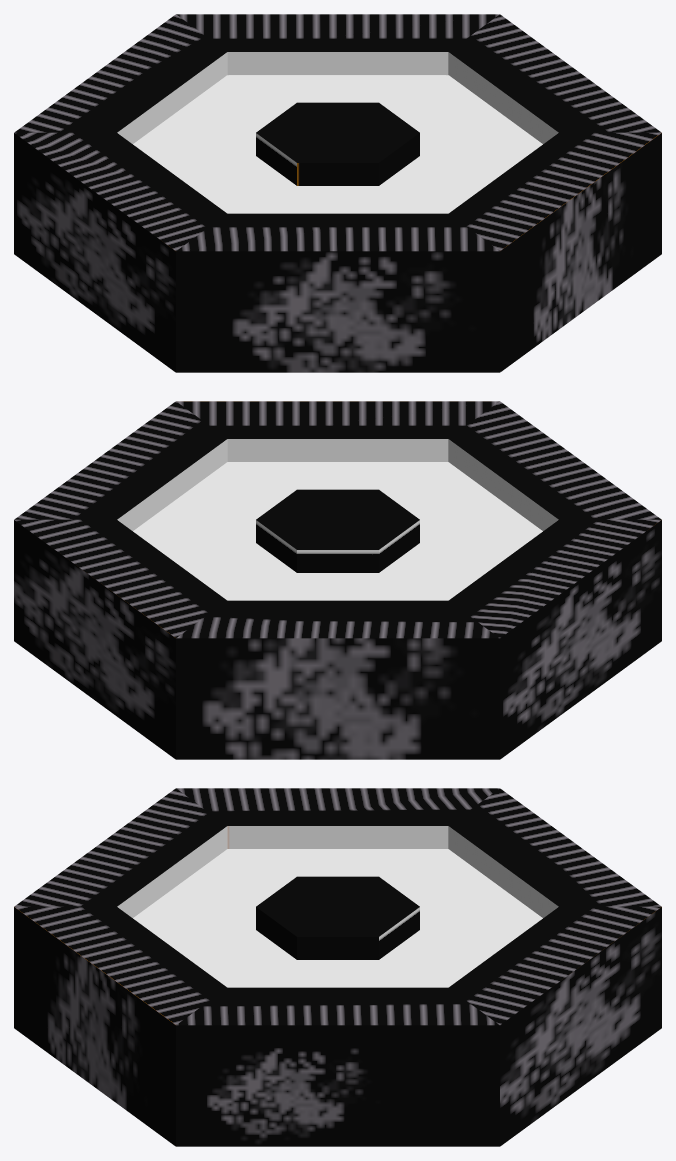
The model's file is wheel.glb.
The picture shows the model from 3 angles, top to bottom: view 1: azimuth 30°, elevation 25°; view 2: azimuth 150°, elevation 25°; view 3: azimuth 270°, elevation 25°; orthographic projection.
Visible parts, largest first — view 1: Circle; view 2: Circle; view 3: Circle.
Part boxes in pixels (box(x1,y1,x2,y2)): Circle: box(14, 14, 661, 372); Circle: box(14, 401, 661, 759); Circle: box(14, 788, 661, 1146).
Bounding box in the file's own units: 1.73 × 0.4134 × 2.
Materials: 1 (1 with a texture image).
